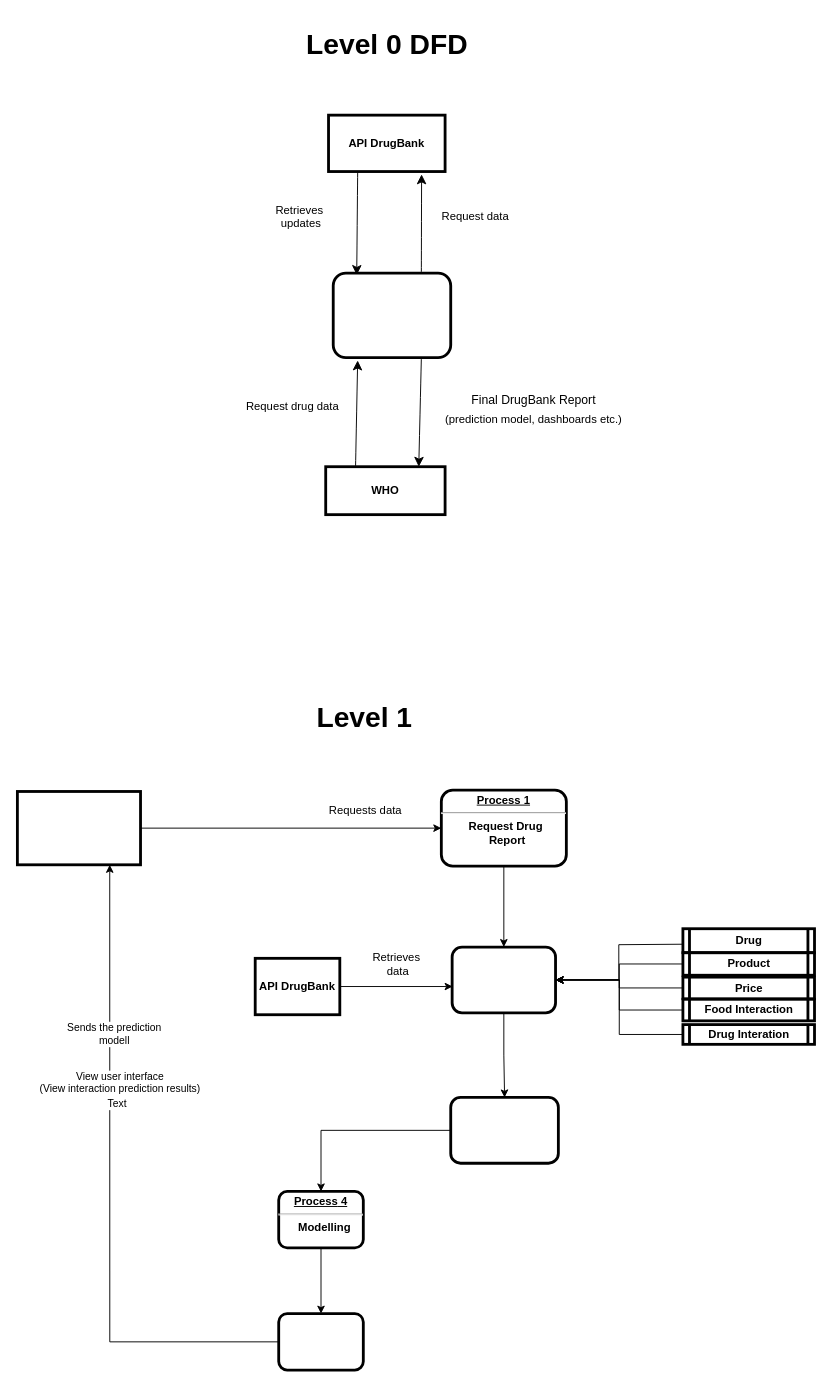
The diagram is 832 pixels wide and 1387 high, and some of its shapes have lost their labels. Each missing label, with the centre of its shape:
"Process 1 DrugBank Reporting System" belongs at (391,315).
"Process 2 Generate API" belongs at (503,979).
"Process 3 ETL" belongs at (504,1130).
"Process 5 Reports" belongs at (320,1341).
"WHO (World Health Organization)" belongs at (78,828).
